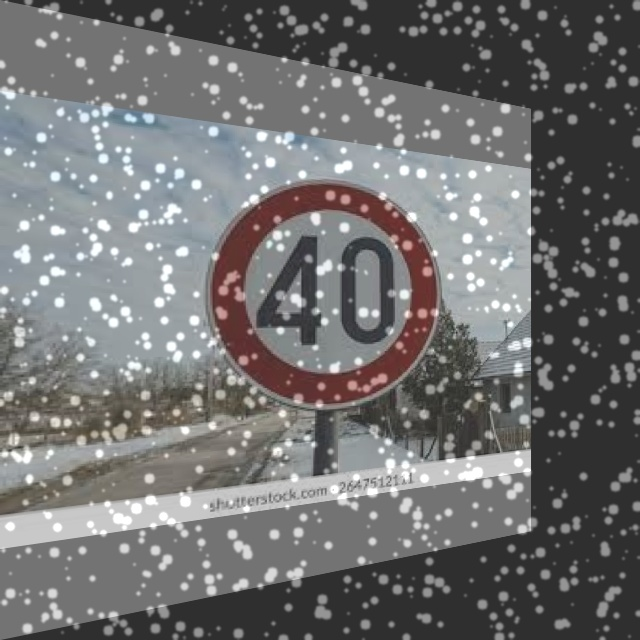Speed_Limit_40: (217, 170, 439, 412)
